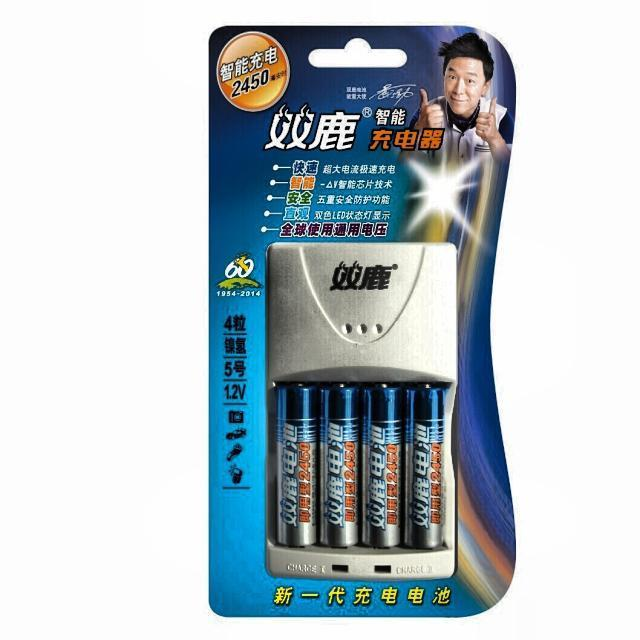battery: (402, 383, 448, 548), (275, 384, 318, 546), (319, 384, 359, 547), (361, 384, 401, 547)
